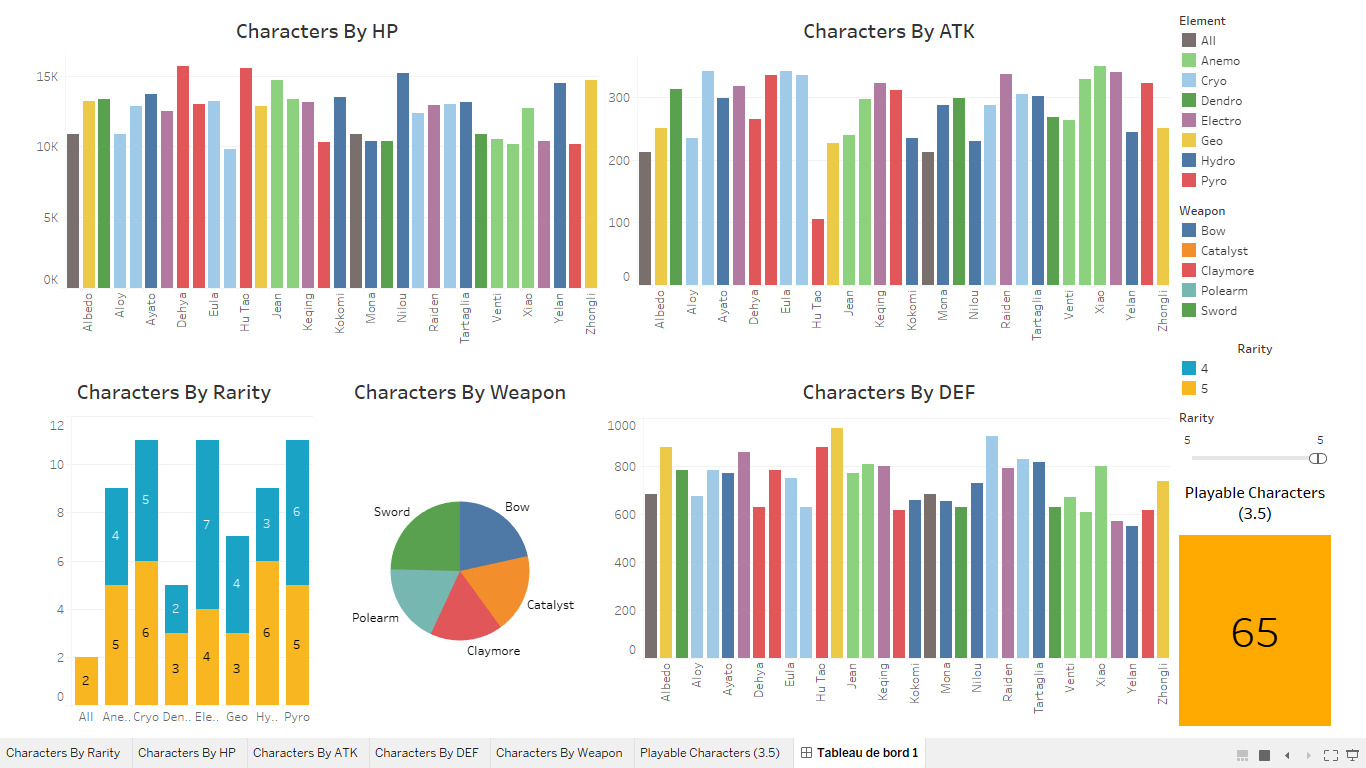

This screenshot's page, from the dashboard's own definition file:
{"tool":"tableau","page":{"name":"Tableau de bord 1","canvas":[1000,1000],"units":"permille","ordinal":0},"visuals":[{"type":"worksheet","title":"Characters By HP","mark":"Automatic","rows":["HP"],"cols":["Name"],"box":[6.1,12.6,433.3,487.4]},{"type":"worksheet","title":"Characters By ATK","mark":"Automatic","rows":["ATK"],"cols":["Name"],"box":[439.4,12.6,433.3,487.4]},{"type":"legend","title":"Characters By HP","param":"[federated.14el3p70bqkxf519mlsc10on7ads].[none:Element:nk]","box":[872.7,12.6,121.2,300.2]},{"type":"legend","title":"Characters By Weapon","param":"[federated.14el3p70bqkxf519mlsc10on7ads].[none:Weapon:nk]","box":[872.7,312.8,121.2,199.1]},{"type":"worksheet","title":"Characters By Rarity","mark":"Automatic","rows":["Name"],"cols":["Element"],"box":[6.1,500,216.7,487.4]},{"type":"worksheet","title":"Characters By Weapon","mark":"Pie","box":[222.7,500,216.7,487.4]},{"type":"worksheet","title":"Characters By DEF","mark":"Automatic","rows":["DEF"],"cols":["Name"],"box":[439.4,500,433.3,487.4]},{"type":"legend","title":"Characters By Rarity","param":"[federated.14el3p70bqkxf519mlsc10on7ads].[none:Rarity:ok]","box":[872.7,568.7,121.2,104.3]},{"type":"filter","title":"Characters By DEF","param":"[federated.14el3p70bqkxf519mlsc10on7ads].[attr:Rarity:qk]","box":[872.7,673,121.2,109]},{"type":"worksheet","title":"Playable Characters (3.5)","mark":"Automatic","box":[872.7,782,121.2,205.4]}]}

Visuals, with their boxes on the dashboard's canvas, which has no fixed pixel size, in thousandths of its width and height (x1, y1, x2, y2). These are canvas units, not pixel positions in the 1366x768 screenshot, which may show the page scaled, cropped or inside an application window:
"Characters By HP" worksheet: [left=6, top=13, right=439, bottom=500]
"Characters By ATK" worksheet: [left=439, top=13, right=873, bottom=500]
"Characters By HP" legend: [left=873, top=13, right=994, bottom=313]
"Characters By Weapon" legend: [left=873, top=313, right=994, bottom=512]
"Characters By Rarity" worksheet: [left=6, top=500, right=223, bottom=987]
"Characters By Weapon" worksheet (Pie marks): [left=223, top=500, right=439, bottom=987]
"Characters By DEF" worksheet: [left=439, top=500, right=873, bottom=987]
"Characters By Rarity" legend: [left=873, top=569, right=994, bottom=673]
"Characters By DEF" filter: [left=873, top=673, right=994, bottom=782]
"Playable Characters (3.5)" worksheet: [left=873, top=782, right=994, bottom=987]
